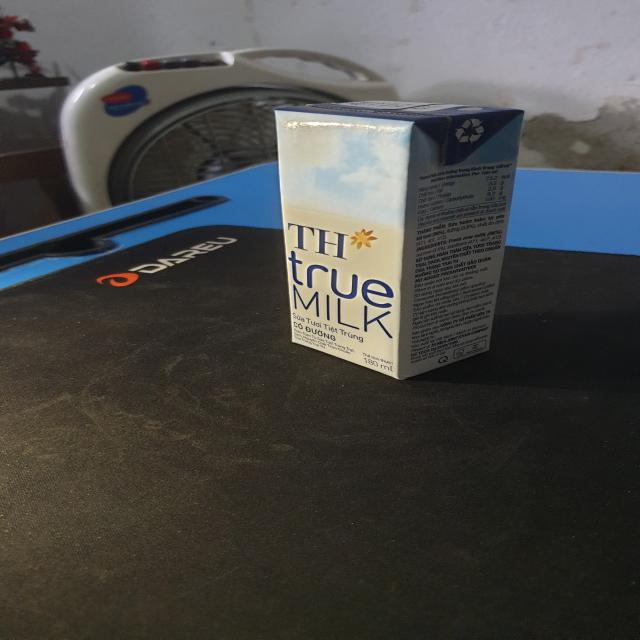TH: (278, 98, 529, 380)
